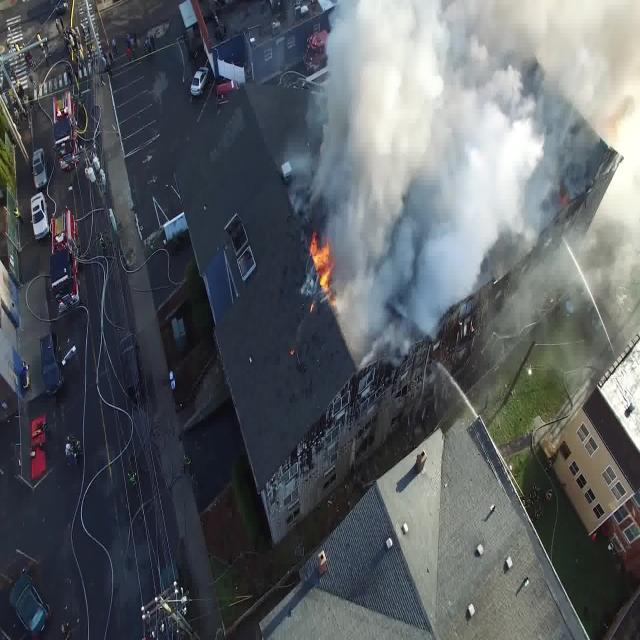Fire: (306, 236, 338, 300)
Smoke: (319, 0, 640, 325)
